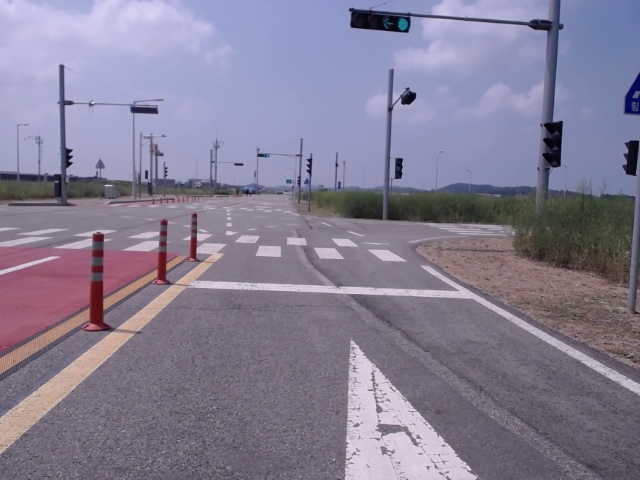all_green_4: (351, 9, 410, 33), (257, 153, 270, 158)
